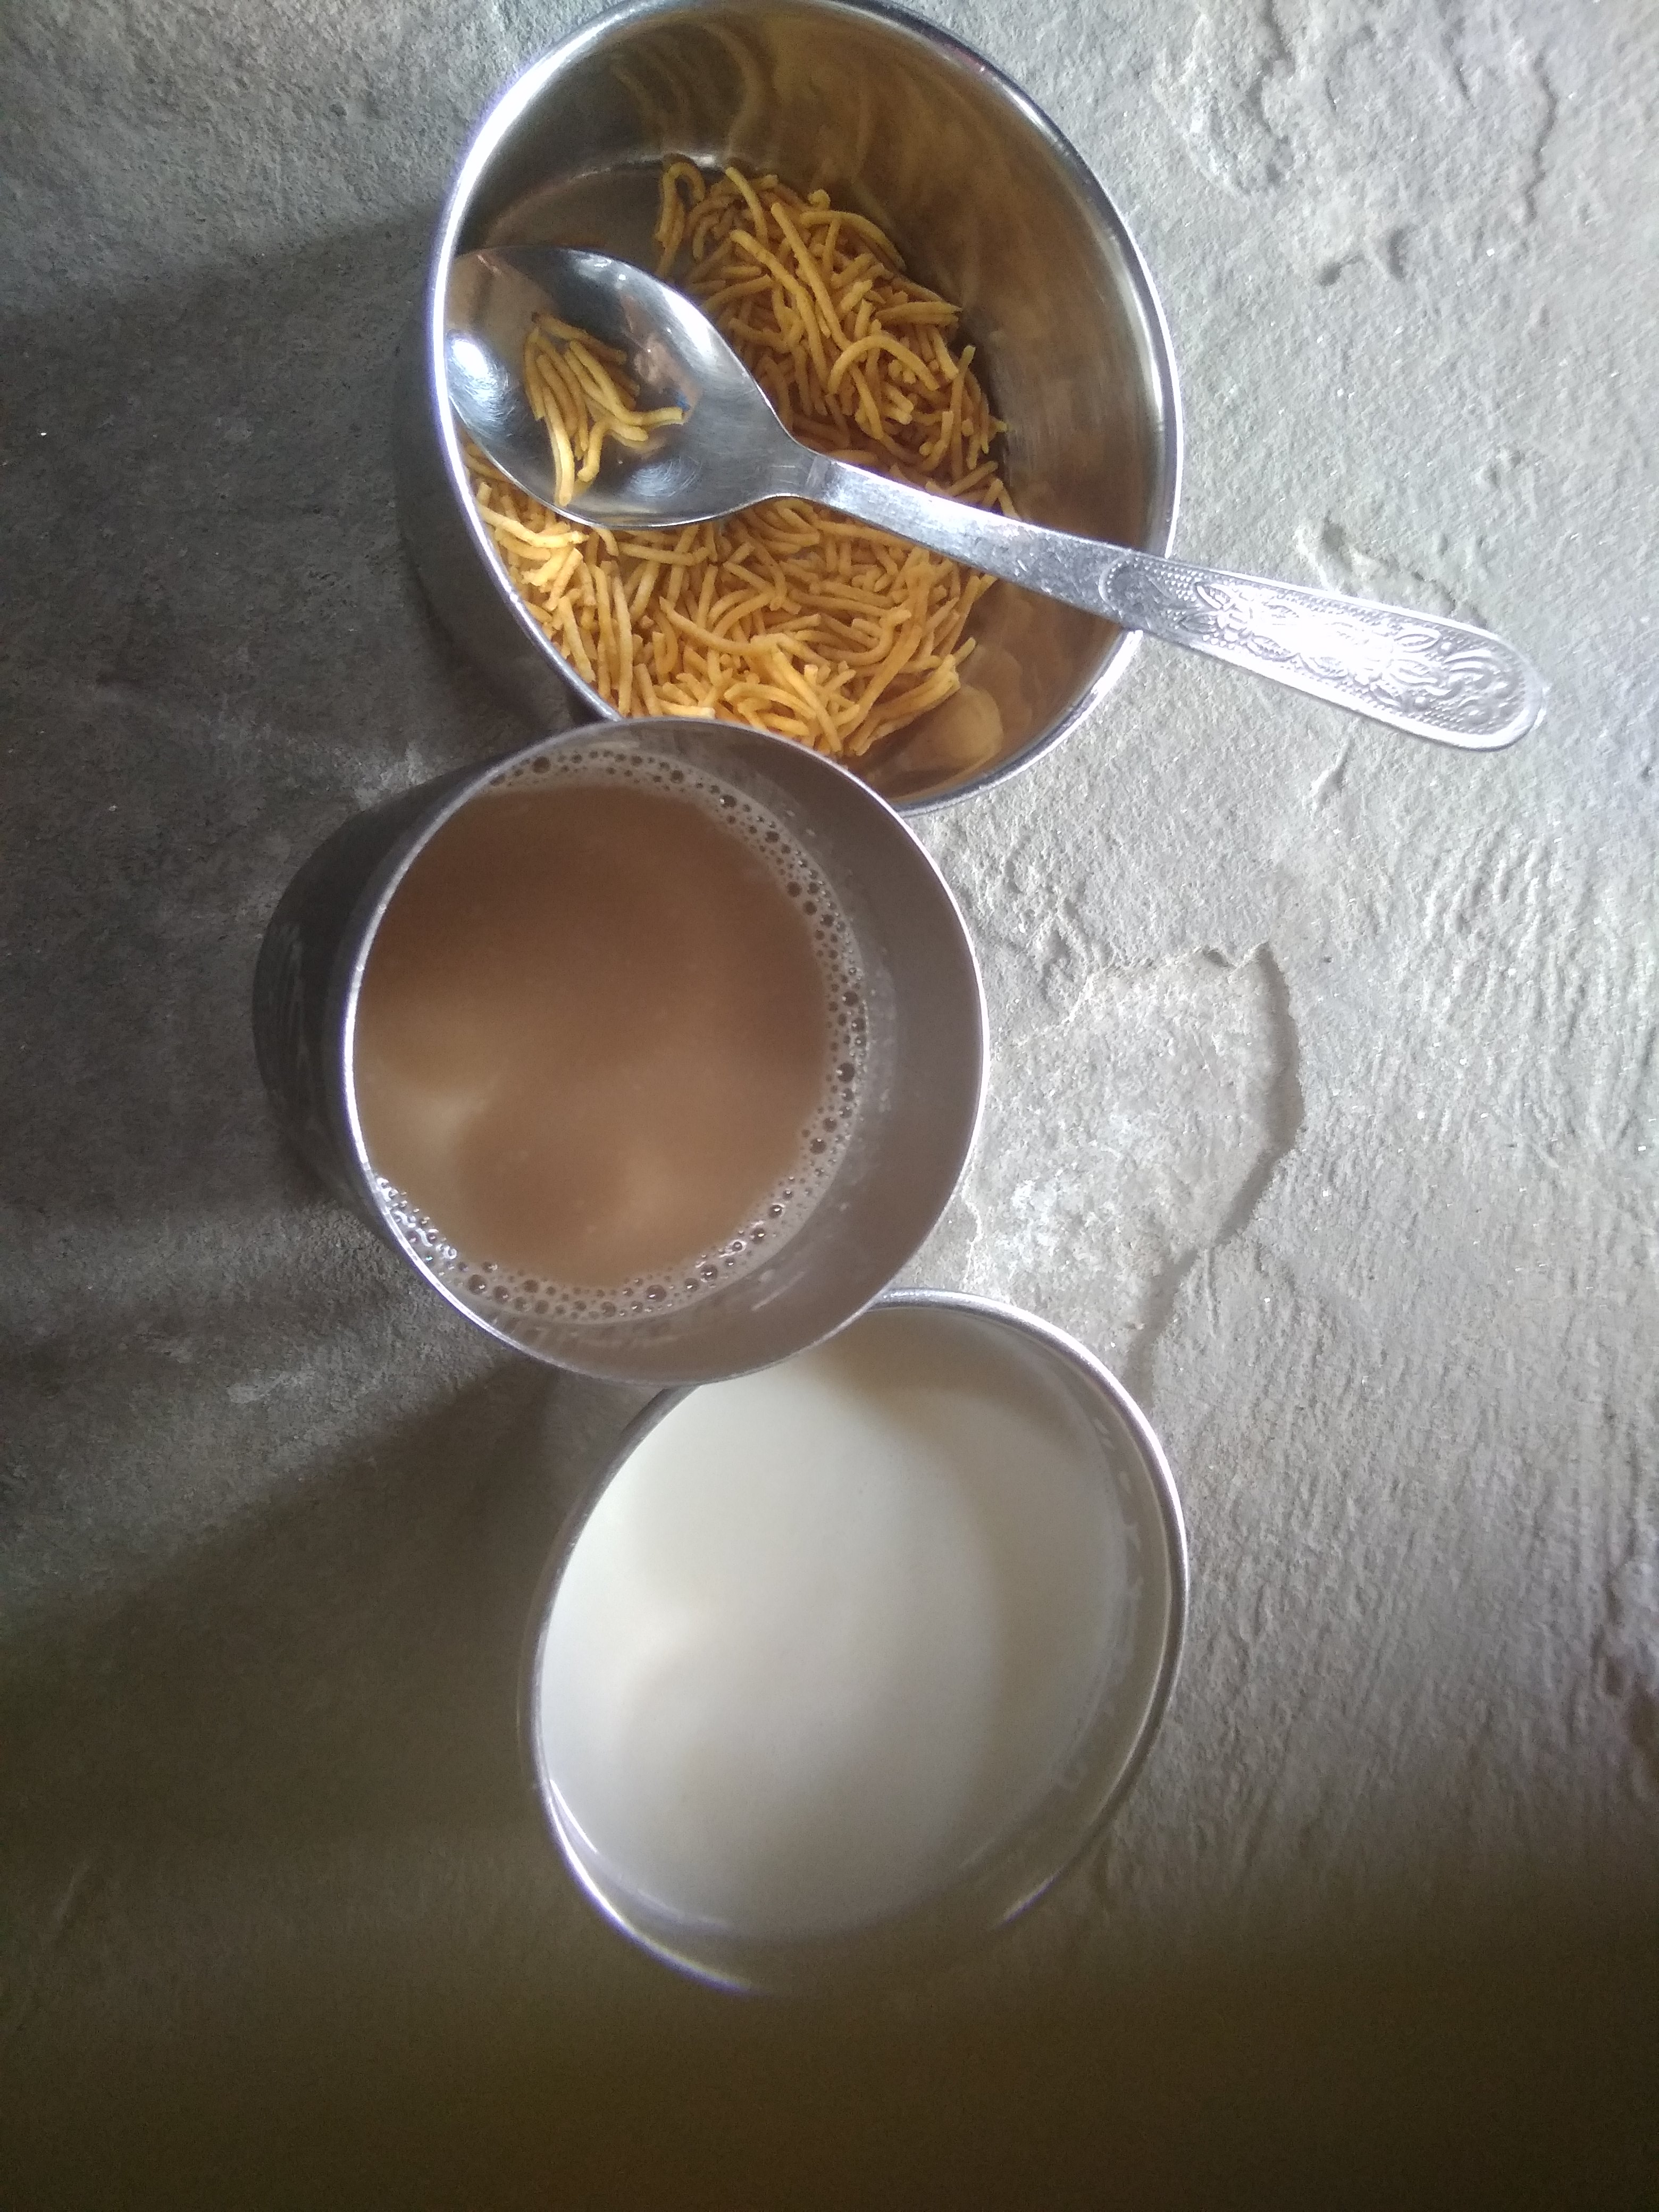food: (518, 1287, 1162, 1963), (446, 136, 1042, 766), (338, 707, 903, 1338)
